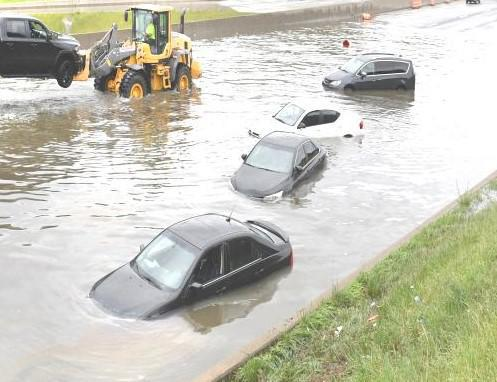water: (0, 0, 495, 380)
